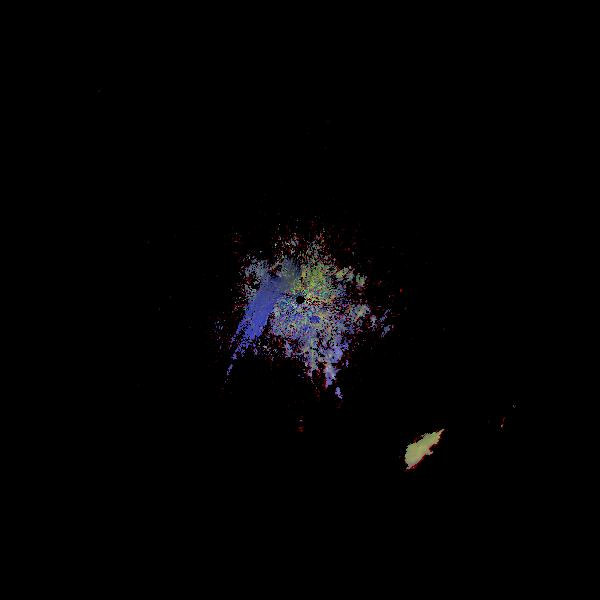roost: (223, 329, 367, 473), (395, 422, 491, 518)
